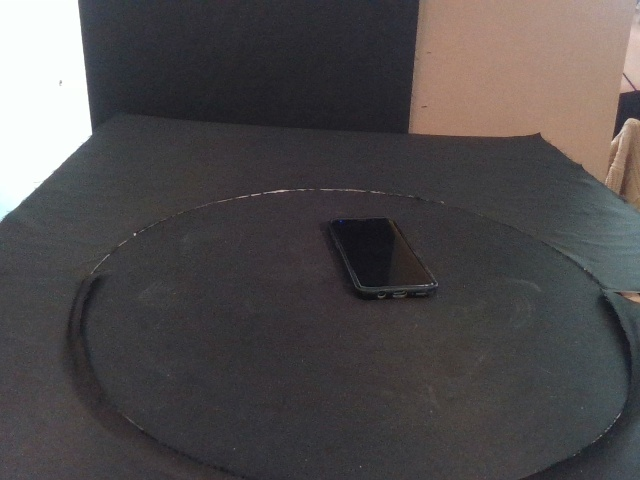phone: (326, 215, 438, 299)
